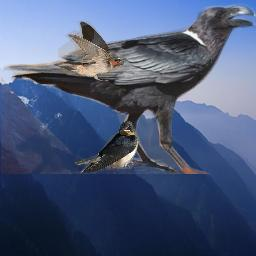Crow: (1, 1, 256, 174)
Swallow: (58, 21, 124, 81), (74, 121, 139, 173)
